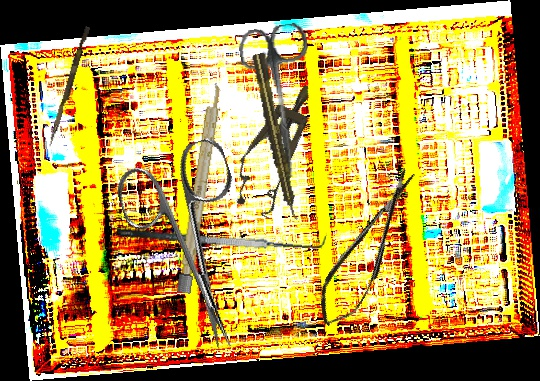Handpiece: (250, 52, 302, 222)
Iris Scissors: (109, 134, 282, 366), (236, 21, 328, 183)
Micro Scissor: (305, 162, 433, 335)
Pusher: (47, 25, 91, 149)
Scalpel Handle: (176, 82, 224, 294)
Spatula Surgical: (116, 210, 327, 260)
Speculum: (222, 74, 332, 220)
